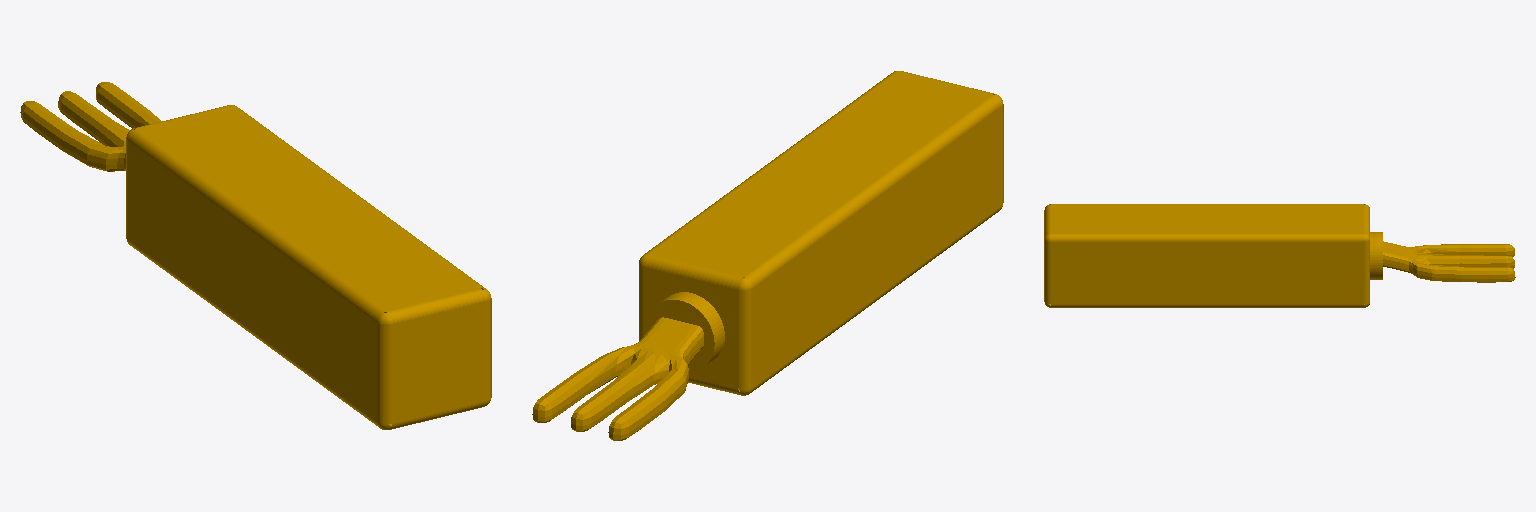
The robot description file, URDF, robot "fork":
<?xml version="1.0"?>
<robot name="fork">
  <link name="base_link">
    <visual>
      <!--<origin xyz="0 0 0" rpy="1.57 0 0" />-->
      <geometry>
        <mesh filename="fork.obj" scale = "0.01 0.01 0.01"/>
      </geometry>
      <material name="brown">
        <color rgba="0.8 0.6 0 1.0" />
      </material>
    </visual>
    <collision>
      <!--<origin xyz="0 0 0" rpy="1.57 0 0" />-->
      <geometry>
        <mesh filename="fork.obj" scale = "0.01 0.01 0.01"/>
      </geometry>
    </collision>
   </link>
</robot>

--- Render facts (derived) ---
The picture shows the robot from 3 angles, left to right: view 1: azimuth 30°, elevation 25°; view 2: azimuth 150°, elevation 25°; view 3: azimuth 270°, elevation 25°; orthographic projection.
Robot: fork — 1 links, 0 joints (none); root link base_link; default pose: all joints at 0.
Links seen in each view (by area): view 1: base_link; view 2: base_link; view 3: base_link.
Link boxes in pixels (x1,y1,x2,y2): base_link: (20, 82, 491, 429); base_link: (532, 71, 1003, 440); base_link: (1044, 204, 1515, 307).
Size in the robot's own frame: 0.0003 by 0.0014 by 0.0003 metres.
Meshes: 1 distinct files referenced, 1 mesh visuals loaded (1 OBJ).